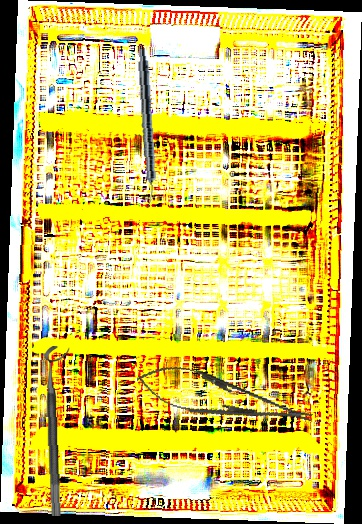Fixation Ring: (44, 345, 76, 517)
Handpiece: (133, 48, 160, 208)
Needle Holder: (132, 356, 317, 441)
